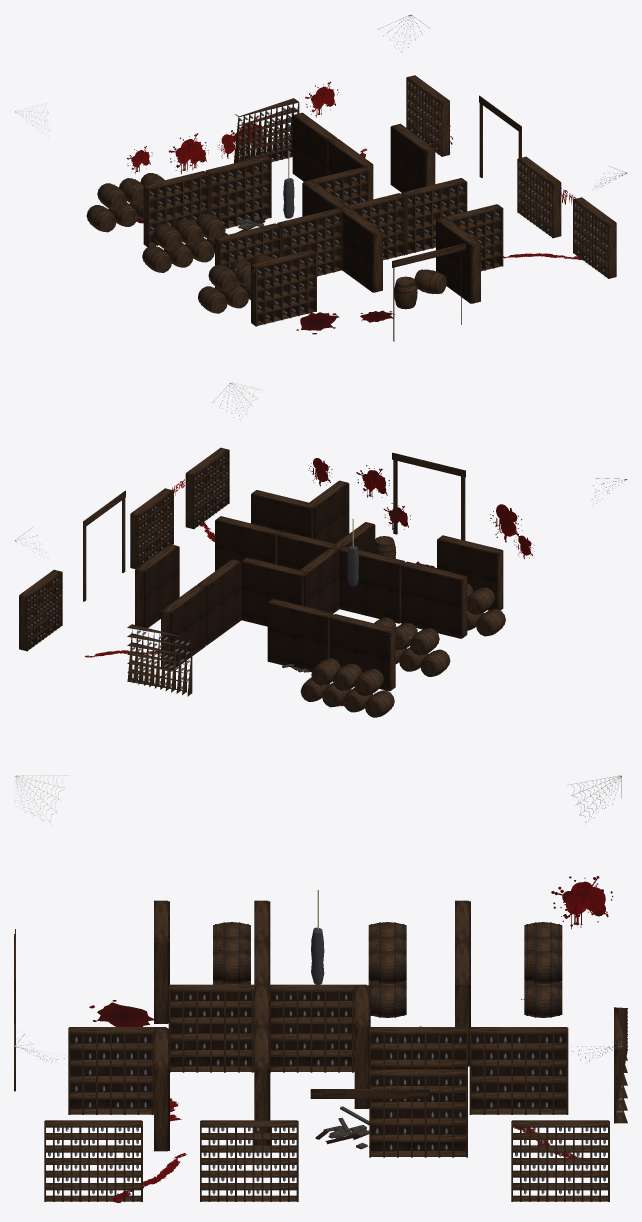
The model's file is dark_wine_v13.glb.
3 views of the same model, one above another, from view 1: azimuth 30°, elevation 25°; view 2: azimuth 150°, elevation 25°; view 3: azimuth 270°, elevation 25° (orthographic). The views are drawn at different scales.
Parts seen in each view (by area): view 1: dark_wine; view 2: dark_wine; view 3: dark_wine.
Part boxes in pixels (bbox=[...]): dark_wine: bbox=[14, 14, 627, 341]; dark_wine: bbox=[14, 382, 627, 717]; dark_wine: bbox=[14, 775, 627, 1203].
Size of the model in its own units: 18.89 by 5.15 by 17.75.
Materials: 19 (16 with a texture image).
